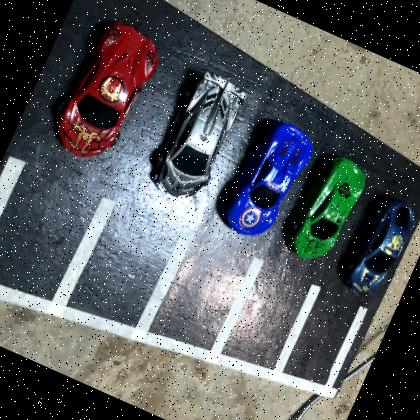Car: (49, 14, 167, 172), (149, 67, 251, 208), (222, 116, 320, 248), (289, 152, 375, 271), (341, 191, 420, 304)
